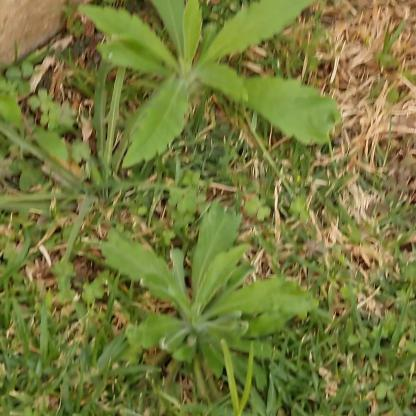Weeds: (81, 0, 345, 178), (100, 203, 315, 387)
